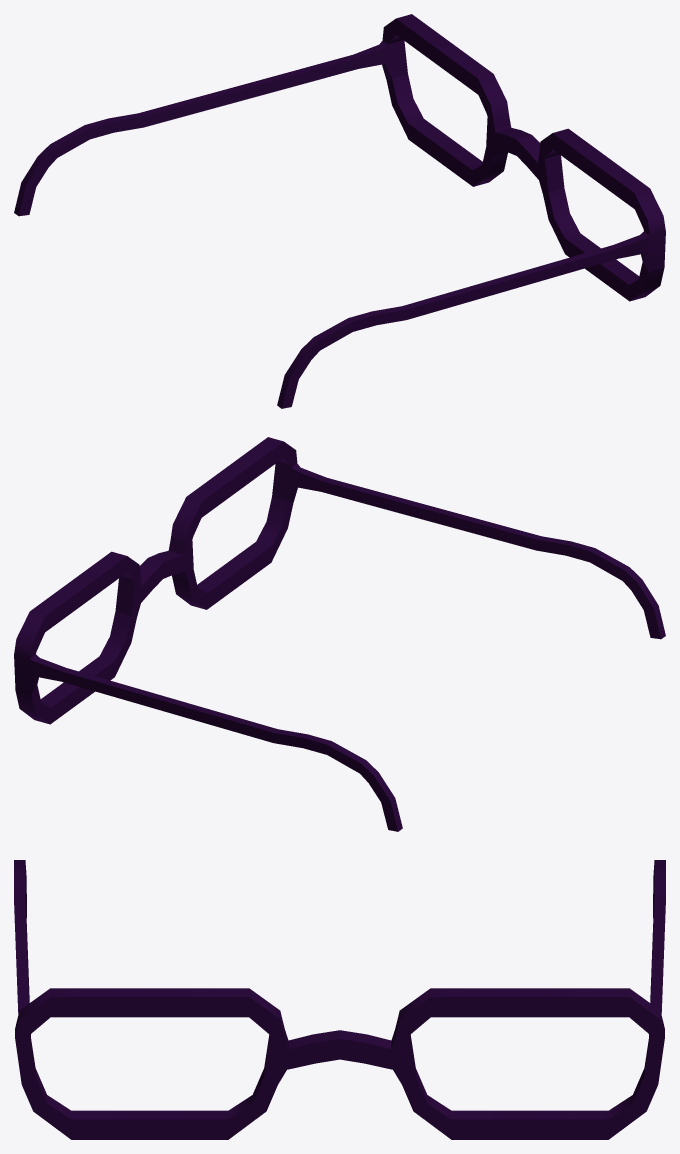
File: glasses.fbx
3 views of the same model, one above another, from view 1: azimuth 30°, elevation 25°; view 2: azimuth 150°, elevation 25°; view 3: azimuth 270°, elevation 25° (orthographic). The views are drawn at different scales.
Visible parts, largest first — view 1: pCube5; view 2: pCube5; view 3: pCube5.
Part boxes in pixels (x1,y1,x2,y2): pCube5: (14, 14, 665, 408); pCube5: (14, 437, 665, 831); pCube5: (14, 860, 665, 1139).
Size of the model in its own units: 5.03 by 1.45 by 6.04.
